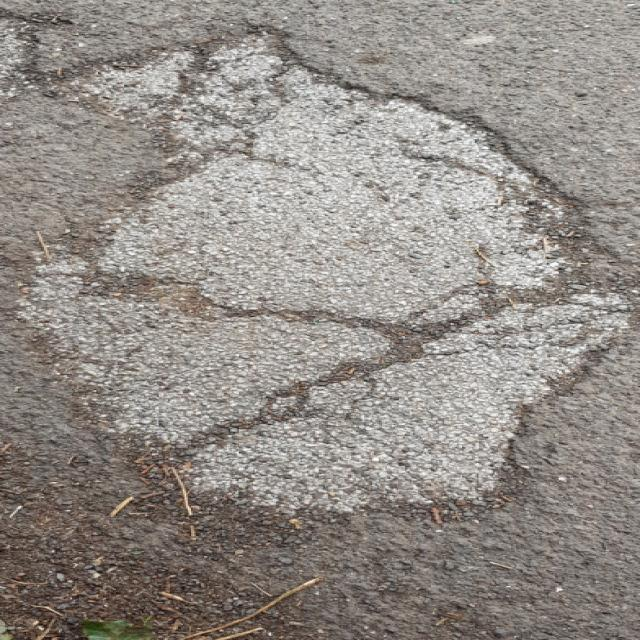Pothole: (8, 22, 640, 521)
